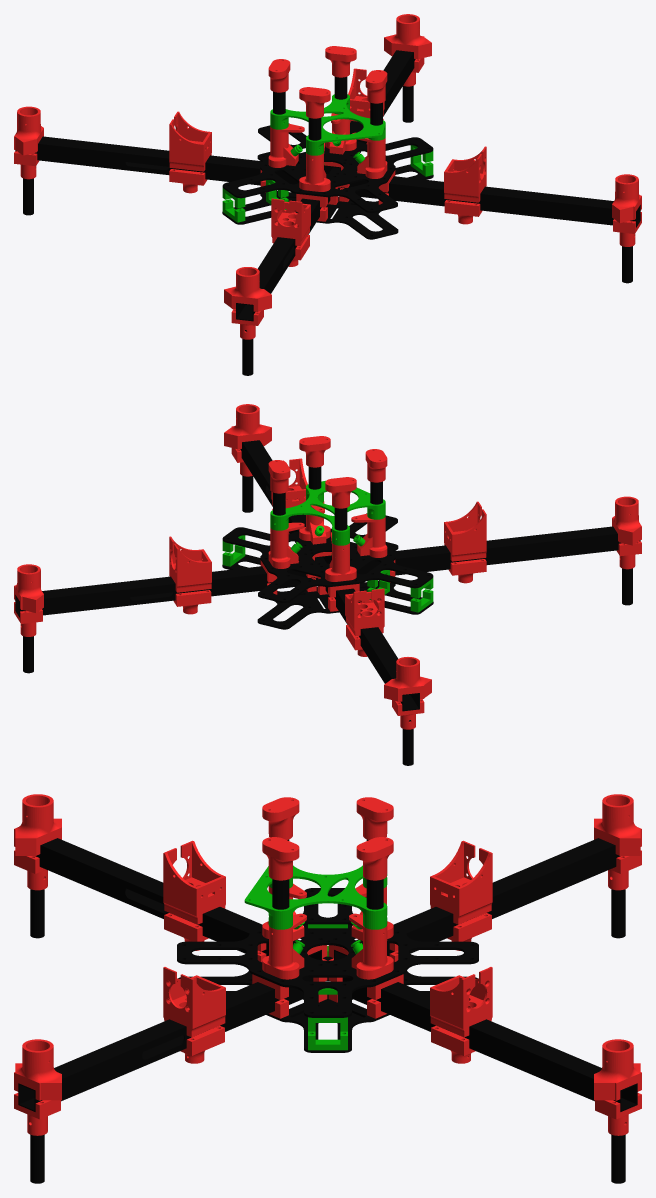
File: beetle_hand_base_link.dae
3 views of the same model, one above another, from view 1: azimuth 30°, elevation 25°; view 2: azimuth 150°, elevation 25°; view 3: azimuth 270°, elevation 25° (orthographic). The views are drawn at different scales.
Parts seen in each view (by area): view 1: Hand8 Beatle Baselink Black, Hand8 Beatle Baselink Red, Hand8 Beatle Baselink Green; view 2: Hand8 Beatle Baselink Black, Hand8 Beatle Baselink Red, Hand8 Beatle Baselink Green; view 3: Hand8 Beatle Baselink Black, Hand8 Beatle Baselink Red, Hand8 Beatle Baselink Green.
Part boxes in pixels (left/top/right/bottom): Hand8 Beatle Baselink Black: left=15, top=50, right=640, bottom=375; Hand8 Beatle Baselink Red: left=14, top=14, right=641, bottom=339; Hand8 Beatle Baselink Green: left=222, top=94, right=433, bottom=222; Hand8 Beatle Baselink Black: left=15, top=440, right=640, bottom=765; Hand8 Beatle Baselink Red: left=14, top=404, right=641, bottom=729; Hand8 Beatle Baselink Green: left=222, top=480, right=433, bottom=612; Hand8 Beatle Baselink Black: left=18, top=838, right=637, bottom=1183; Hand8 Beatle Baselink Red: left=14, top=794, right=641, bottom=1135; Hand8 Beatle Baselink Green: left=244, top=865, right=387, bottom=1050.
Size of the model in its own units: 0.5202 by 0.5202 by 0.213.
